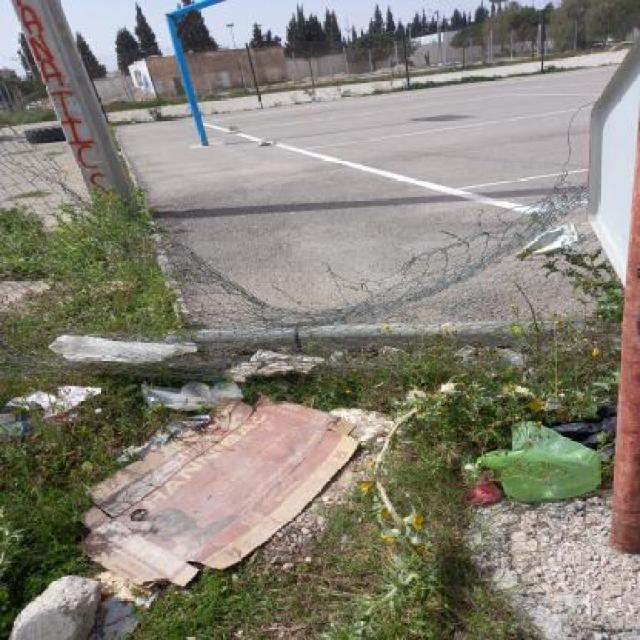fence line: (183, 220, 539, 315)
